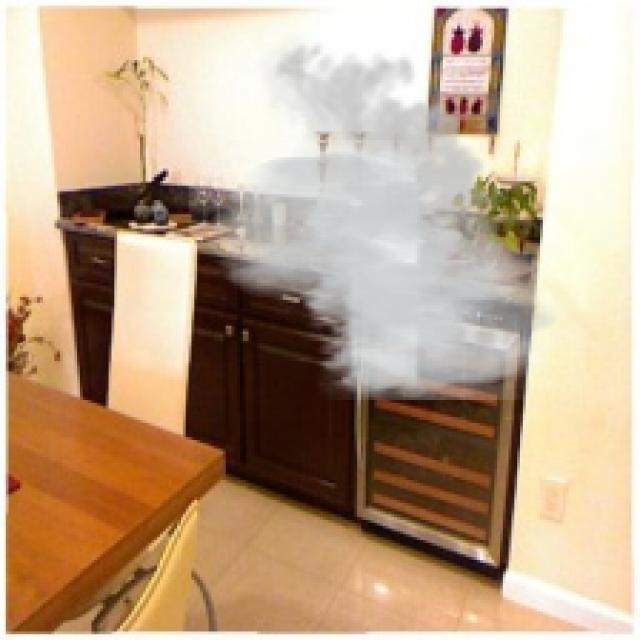Smoke: (188, 31, 580, 400)
